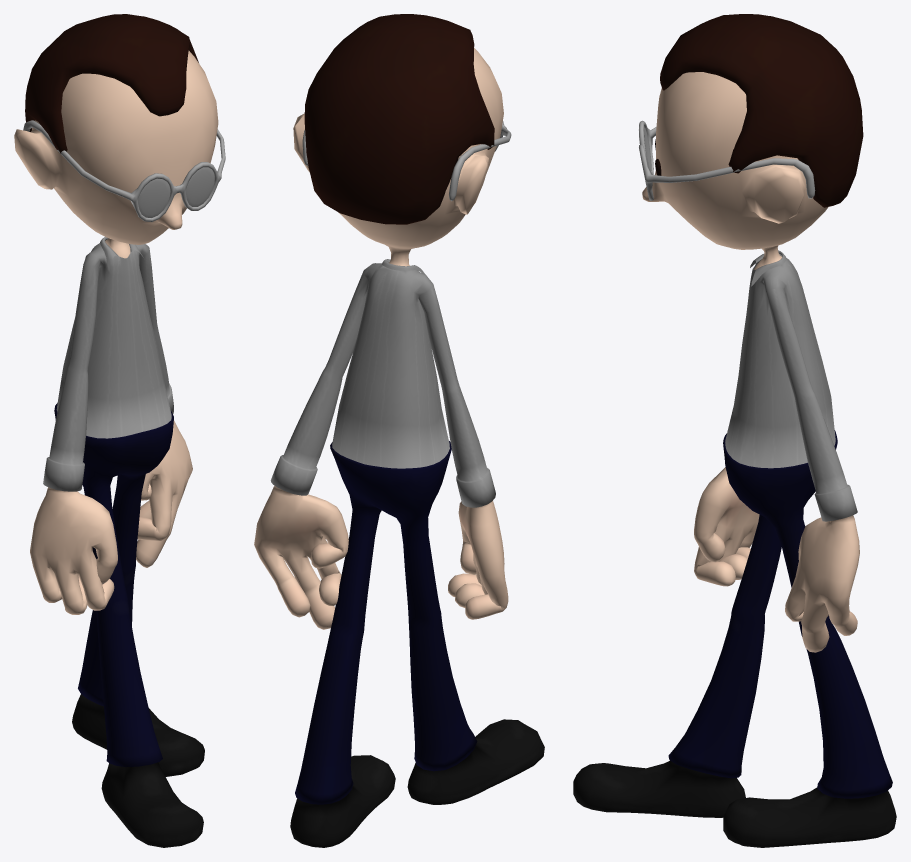
The model's file is Animation_Cartoon_Starter_000240.obj.
The picture shows the model from 3 angles, left to right: view 1: azimuth 30°, elevation 25°; view 2: azimuth 150°, elevation 25°; view 3: azimuth 270°, elevation 25°; orthographic projection. The views are drawn at different scales.
Parts seen in each view (by area): view 1: bm_09; view 2: bm_09; view 3: bm_09.
Part boxes in pixels (left/top/right/bottom): bm_09: left=14, top=14, right=225, bottom=847; bm_09: left=254, top=14, right=544, bottom=847; bm_09: left=573, top=14, right=896, bottom=847.
Size of the model in its own units: 0.414 by 1.5 by 0.5559.
Materials: 3 (1 with a texture image).
